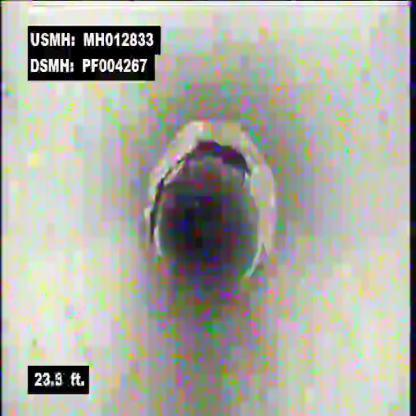jntoffs: (141, 104, 290, 268)
